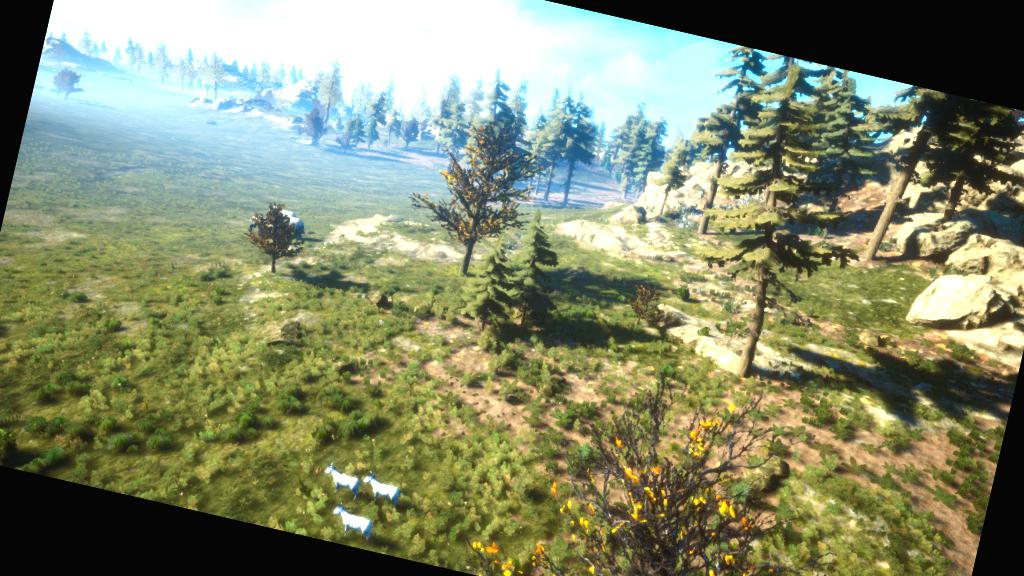elephant: (265, 202, 313, 240)
zebra: (328, 502, 380, 544), (320, 462, 368, 500), (358, 472, 406, 510)
